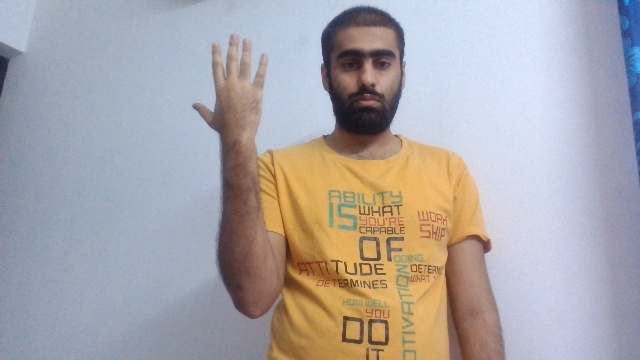paper: (190, 32, 269, 138)
